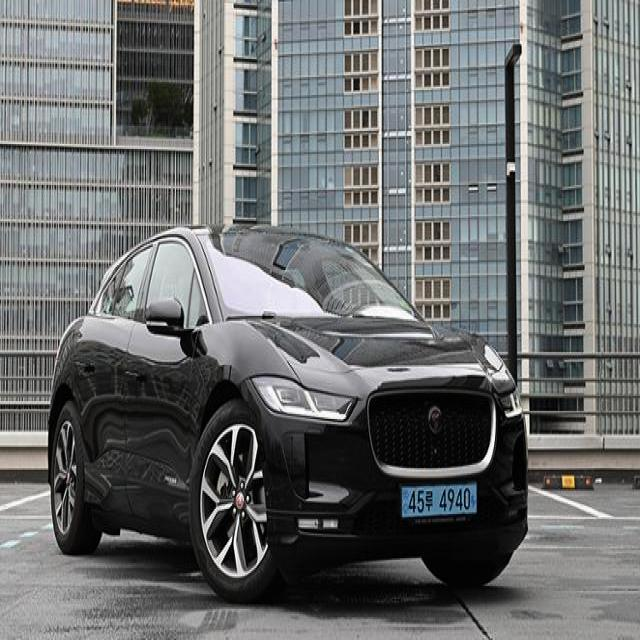EV_plate: (399, 483, 479, 523)
car: (38, 219, 541, 605)
